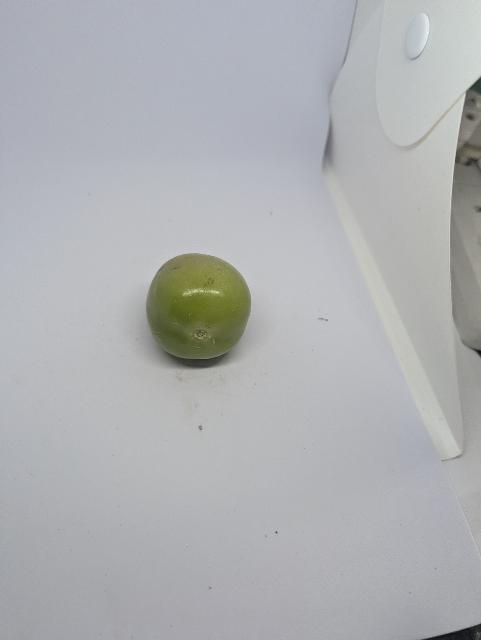green: (133, 241, 267, 376)
